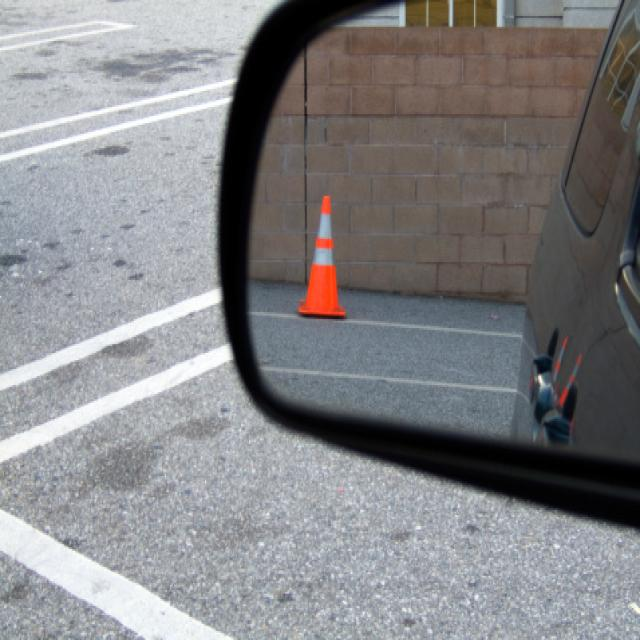cone: (299, 196, 346, 318)
